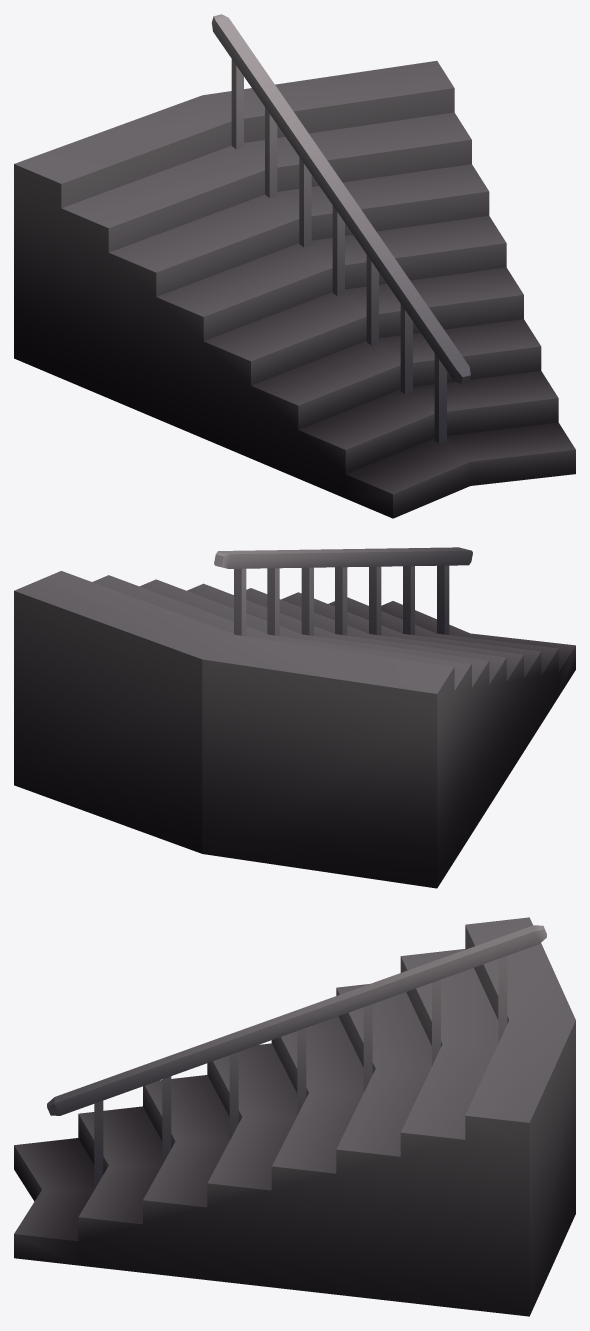
The picture shows the model from 3 angles, top to bottom: view 1: azimuth 30°, elevation 25°; view 2: azimuth 150°, elevation 25°; view 3: azimuth 270°, elevation 25°; orthographic projection.
Parts seen in each view (by area): view 1: Stairs; view 2: Stairs; view 3: Stairs.
Boxes of the visible parts, x1,y1,x2,y2 form: Stairs: (14,14,575,518); Stairs: (14,547,575,888); Stairs: (14,917,575,1316).
Bounding box in the file's own units: 0.4605 × 0.2982 × 0.5319.
1 material, 1 textured.
